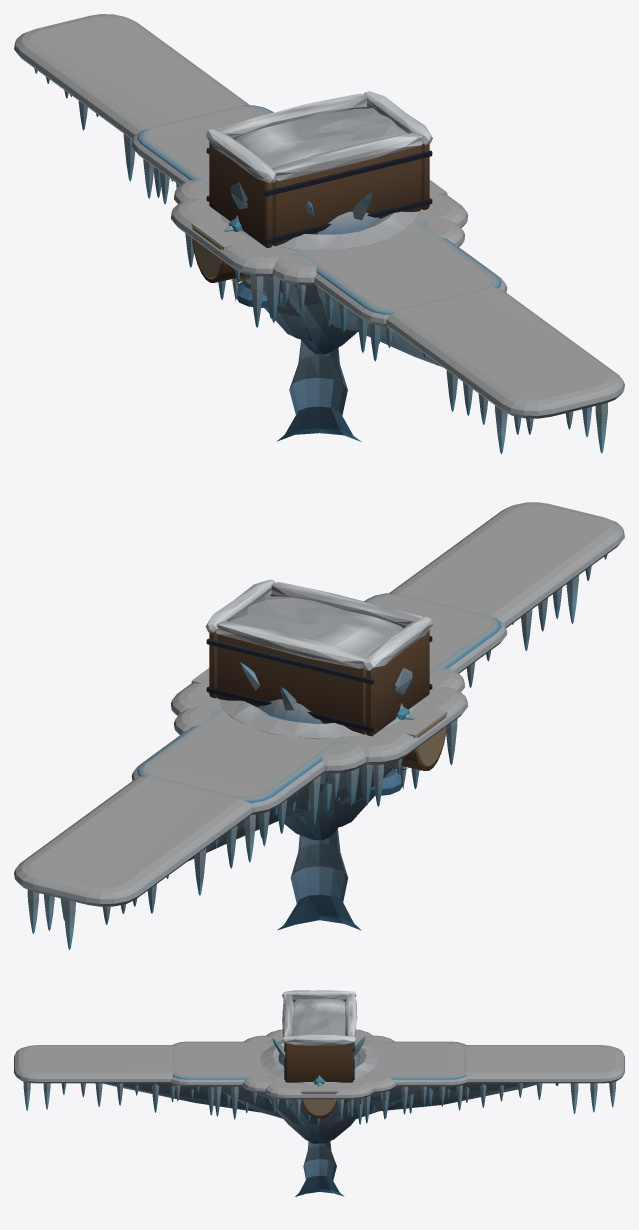
The model's file is glacier-3-Dl0lNX5O.glb.
3 views of the same model, one above another, from view 1: azimuth 30°, elevation 25°; view 2: azimuth 150°, elevation 25°; view 3: azimuth 270°, elevation 25° (orthographic). The views are drawn at different scales.
Parts seen in each view (by area): view 1: block_5x2x40#0, hopper_5.9x3#0, block_6x2x20#0, spout_5x2#0, block_10x2x7#0, block_8x2x10#0, support_1_square#0, geyserVent_3#0, block_6x2x20_ice#0, beam_10x2x2.5#0, disc_8x1.5#0; view 2: block_5x2x40#0, hopper_5.9x3#0, block_6x2x20#0, spout_5x2#0, block_10x2x7#0, support_1_square#0, block_8x2x10#0, geyserVent_3#0, block_6x2x20_ice#0, beam_10x2x2.5#0, disc_8x1.5#0; view 3: block_5x2x40#0, block_6x2x20#0, hopper_5.9x3#0, block_10x2x7#0, block_8x2x10#0, spout_5x2#0, block_6x2x20_ice#0, support_1_square#0, geyserVent_3#0, beam_10x2x2.5#0, disc_8x1.5#0.
Boxes of the visible parts, box(x1,y1,x2,y2) form: block_5x2x40#0: box(14, 14, 624, 454); hopper_5.9x3#0: box(206, 91, 432, 248); block_6x2x20#0: box(131, 107, 507, 350); spout_5x2#0: box(230, 108, 407, 209); block_10x2x7#0: box(171, 195, 468, 327); block_8x2x10#0: box(174, 180, 465, 354); support_1_square#0: box(277, 340, 361, 441); geyserVent_3#0: box(220, 191, 418, 249); block_6x2x20_ice#0: box(137, 105, 501, 323); beam_10x2x2.5#0: box(191, 180, 447, 301); disc_8x1.5#0: box(264, 291, 341, 341); block_5x2x40#0: box(14, 502, 624, 949); hopper_5.9x3#0: box(205, 579, 433, 736); block_6x2x20#0: box(131, 596, 507, 862); spout_5x2#0: box(231, 596, 412, 694); block_10x2x7#0: box(171, 683, 468, 811); support_1_square#0: box(277, 828, 361, 930); block_8x2x10#0: box(174, 668, 464, 840); geyserVent_3#0: box(220, 662, 416, 739); block_6x2x20_ice#0: box(137, 593, 501, 803); beam_10x2x2.5#0: box(191, 668, 447, 789); disc_8x1.5#0: box(312, 780, 374, 829); block_5x2x40#0: box(14, 1045, 624, 1115); block_6x2x20#0: box(171, 1043, 467, 1119); hopper_5.9x3#0: box(282, 990, 357, 1082); block_10x2x7#0: box(265, 1029, 373, 1124); block_8x2x10#0: box(242, 1035, 396, 1143); spout_5x2#0: box(293, 998, 345, 1035); block_6x2x20_ice#0: box(172, 1041, 466, 1117); support_1_square#0: box(295, 1141, 344, 1196); geyserVent_3#0: box(260, 1023, 378, 1084); beam_10x2x2.5#0: box(300, 1083, 338, 1118); disc_8x1.5#0: box(297, 1114, 344, 1138).
Bounding box in the file's own units: 10.36 × 13.92 × 40.36.
